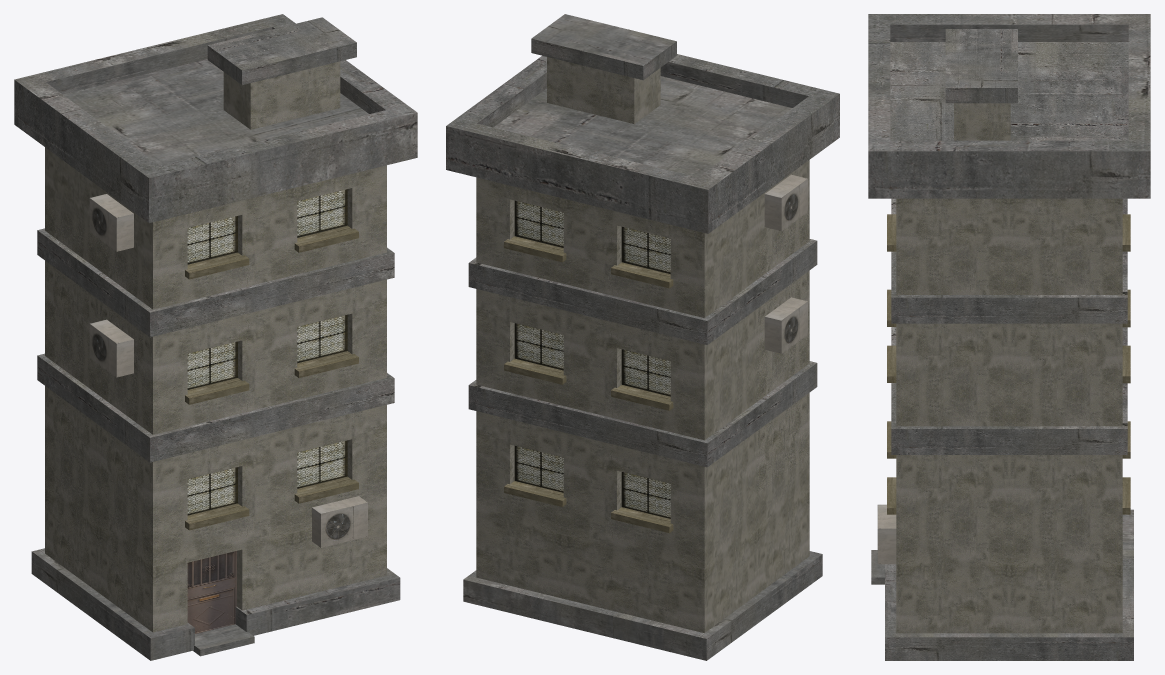
The model's file is Building04С2.fbx.
3 renders of one model, left to right at view 1: azimuth 30°, elevation 25°; view 2: azimuth 150°, elevation 25°; view 3: azimuth 270°, elevation 25°, orthographic. The views are drawn at different scales.
Visible parts, largest first — view 1: UB; view 2: UB; view 3: UB.
Part boxes in pixels (bbox=[...]): UB: bbox=[14, 14, 417, 660]; UB: bbox=[446, 14, 839, 660]; UB: bbox=[868, 14, 1150, 660].
Size of the model in its own units: 5.15 by 9.91 by 4.48.
